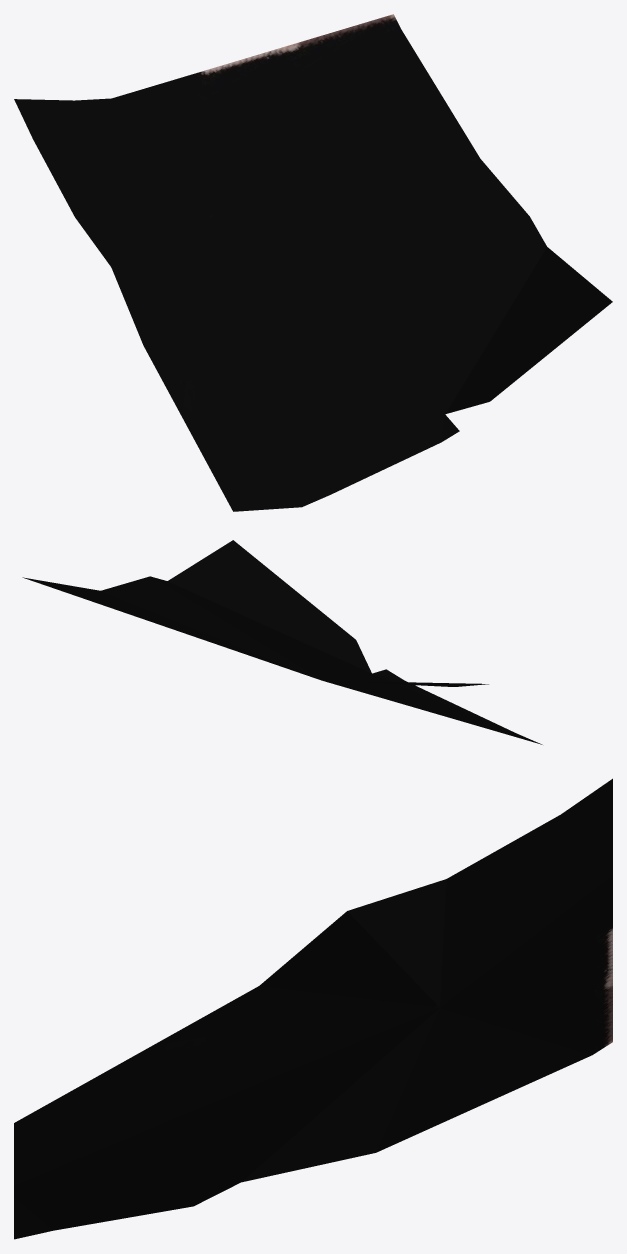
3 views of the same model, one above another, from view 1: azimuth 30°, elevation 25°; view 2: azimuth 150°, elevation 25°; view 3: azimuth 270°, elevation 25° (orthographic). The views are drawn at different scales.
Bounding box in the file's own units: 3.35 × 2.23 × 3.35.
Materials: 3 (3 with a texture image).
